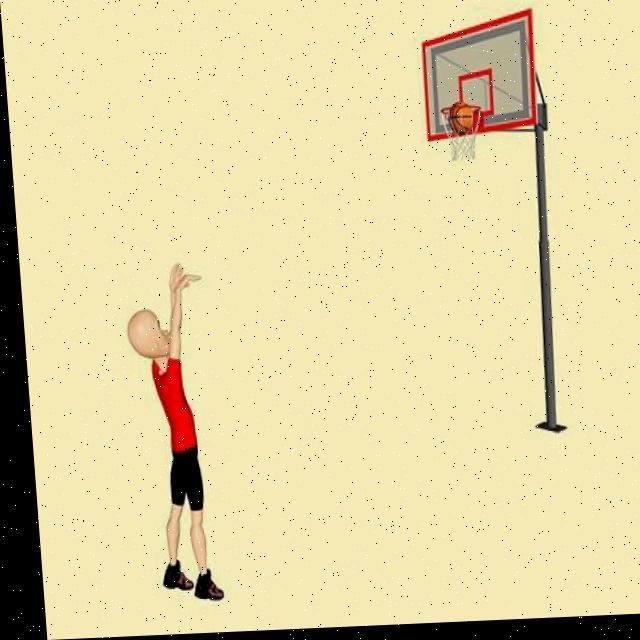Basketball: (448, 102, 475, 137)
hoop: (440, 105, 484, 162)
